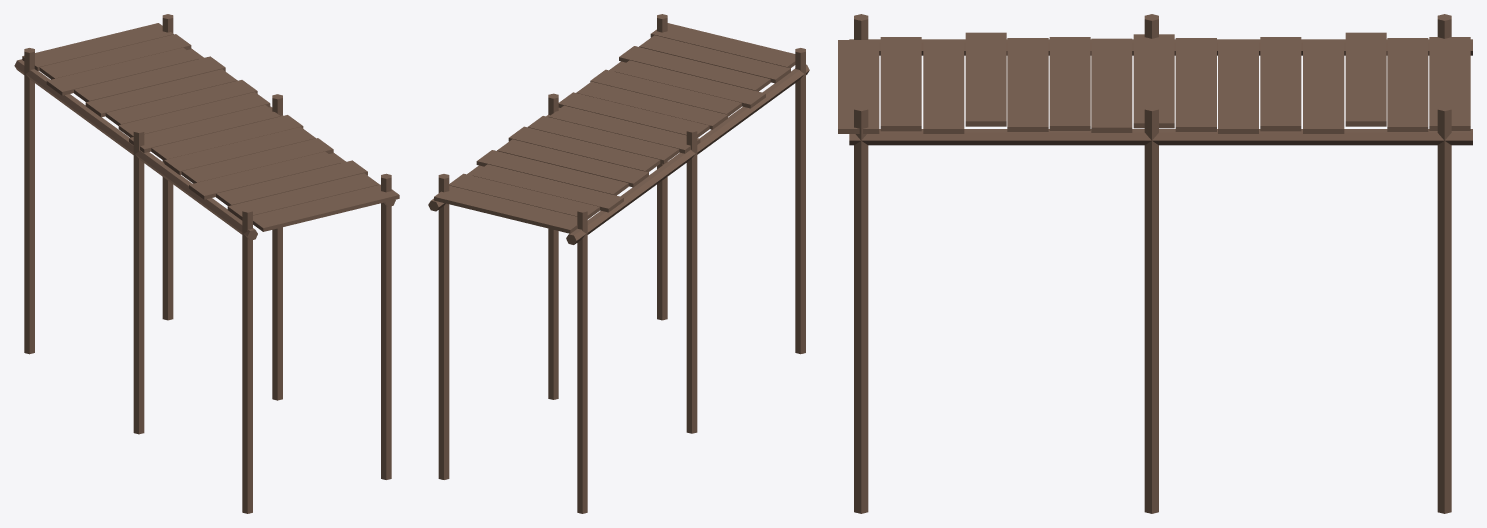
Rendered from mdl_Bridge01_2.fbx.
3 views of the same model, side by side, from view 1: azimuth 30°, elevation 25°; view 2: azimuth 150°, elevation 25°; view 3: azimuth 270°, elevation 25° (orthographic). The views are drawn at different scales.
Parts seen in each view (by area): view 1: mdl_Bridge01_3; view 2: mdl_Bridge01_3; view 3: mdl_Bridge01_3.
Part boxes in pixels (bbox=[...]): mdl_Bridge01_3: bbox=[14, 14, 399, 513]; mdl_Bridge01_3: bbox=[428, 14, 809, 513]; mdl_Bridge01_3: bbox=[838, 14, 1472, 513].
Size of the model in its own units: 149 by 287 by 410.
